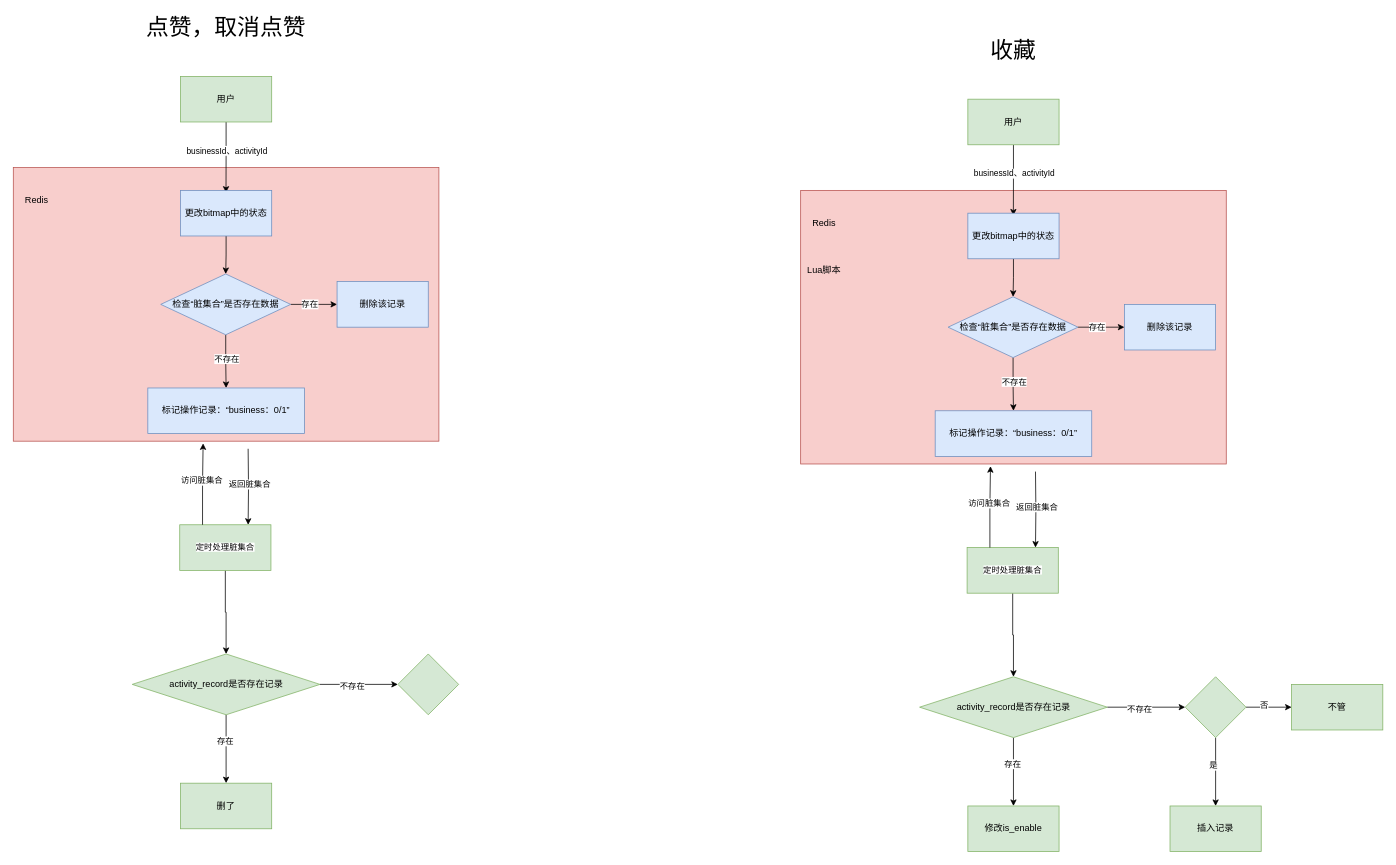
This 1396x865 diagram has some shape labels left out. Here are the shapes that lost their labels. From the top down, the centre of each, then its label:
point 428,684: 增加
point 1215,707: 增加？
